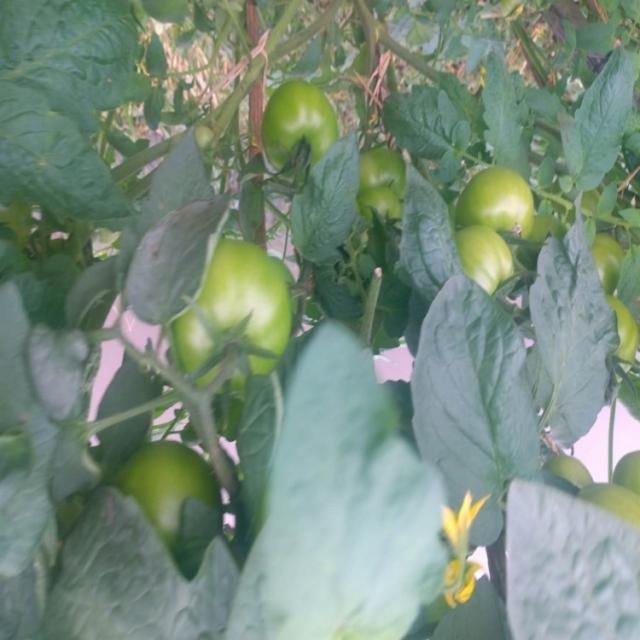tomato: (177, 234, 290, 386), (117, 432, 225, 560), (453, 159, 547, 247), (259, 79, 343, 165), (446, 224, 515, 299), (354, 189, 420, 258), (585, 220, 631, 290), (360, 140, 414, 194), (590, 471, 640, 528)
